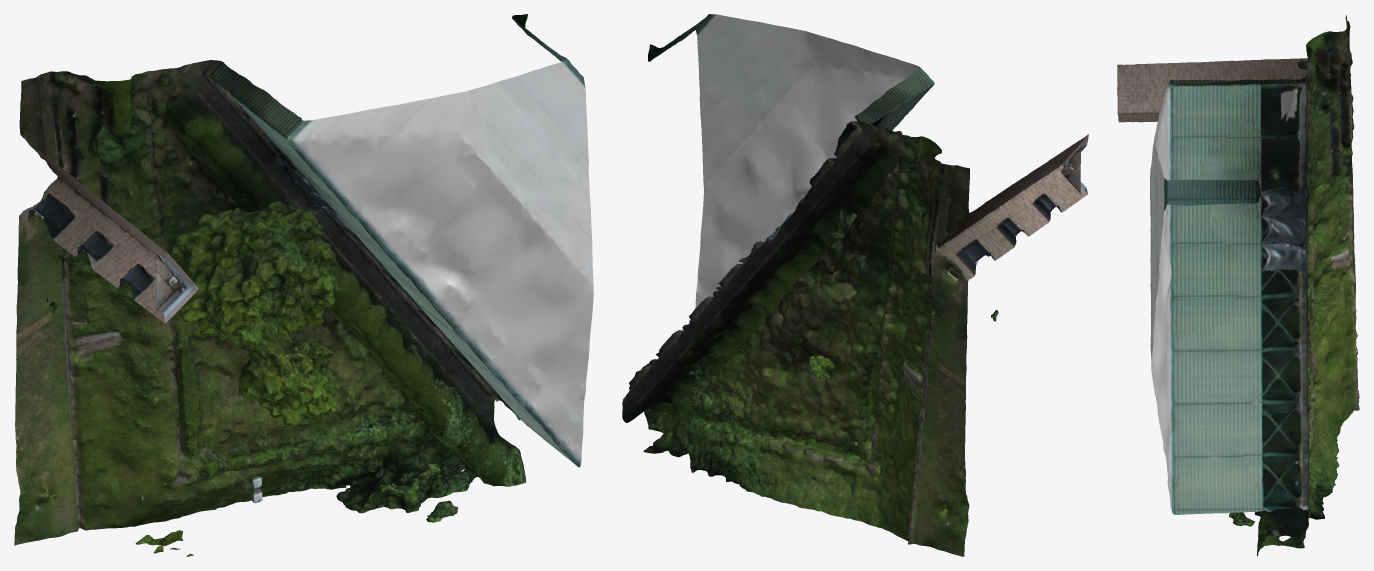
The model's file is Tile_+011_+007.fbx.
3 views of the same model, side by side, from view 1: azimuth 30°, elevation 25°; view 2: azimuth 150°, elevation 25°; view 3: azimuth 270°, elevation 25° (orthographic). The views are drawn at different scales.
Parts seen in each view (by area): view 1: DefaultName; view 2: DefaultName; view 3: DefaultName.
Boxes of the visible parts, <box> form: DefaultName: <box>14,14,593,556</box>; DefaultName: <box>622,14,1088,556</box>; DefaultName: <box>1117,15,1359,556</box>.
Size of the model in its own units: 22.54 by 22.54 by 13.38.
